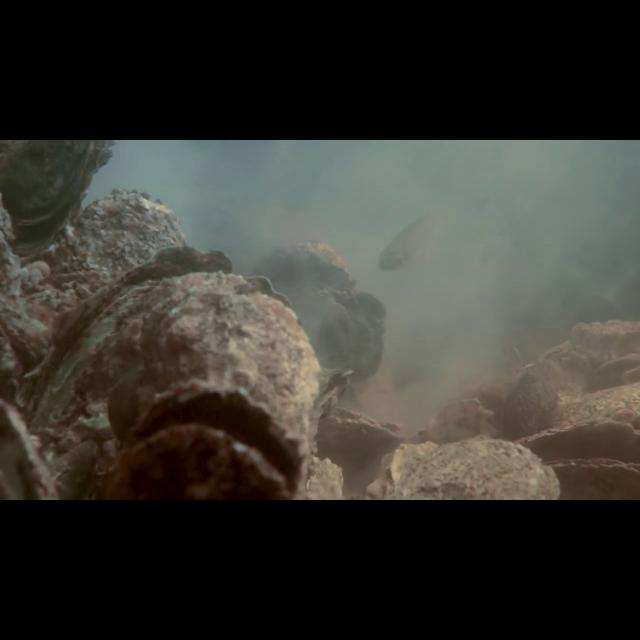Oyster-Closed: (22, 244, 236, 437), (102, 269, 326, 453), (248, 241, 385, 380), (58, 187, 192, 295), (0, 140, 117, 262), (360, 437, 567, 500), (495, 358, 570, 431), (508, 416, 637, 452), (539, 453, 637, 491), (313, 414, 405, 451)
Oyster-Open: (118, 380, 308, 496), (587, 351, 639, 390)
